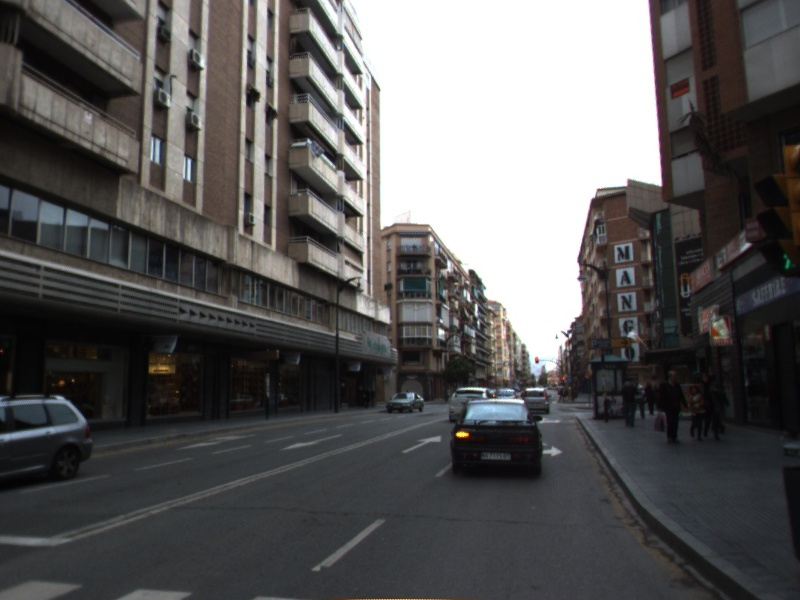STRAIGHT: (399, 433, 443, 455)
